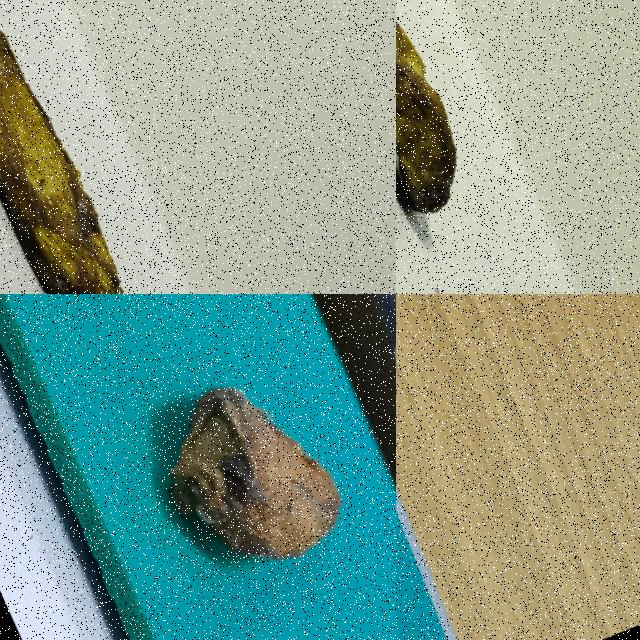Flat_cocoabeans: (76, 294, 395, 639), (0, 0, 232, 293), (396, 0, 539, 293)
